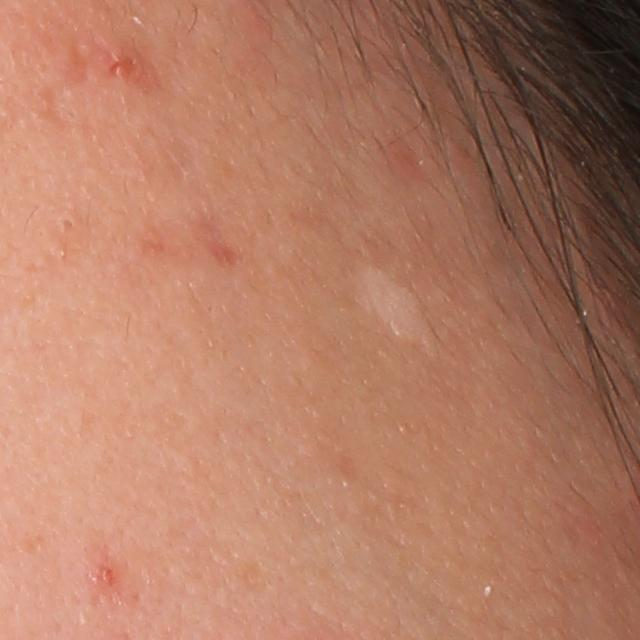comedo: (58, 214, 78, 234)
other: (349, 256, 448, 364)
papule: (84, 36, 148, 91), (96, 565, 118, 588)
